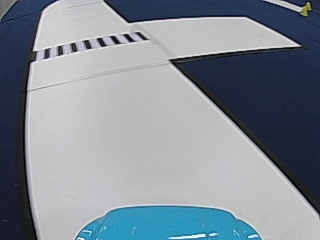CrossWalk: (38, 30, 148, 57)
